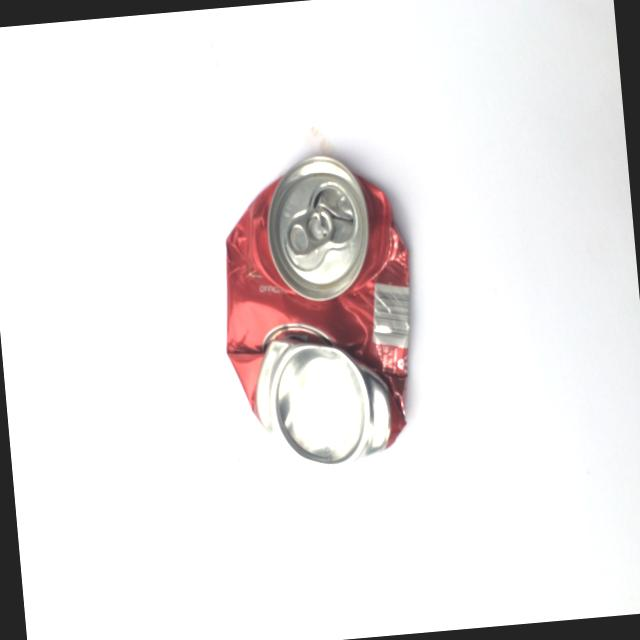Metal: (202, 134, 462, 482)
